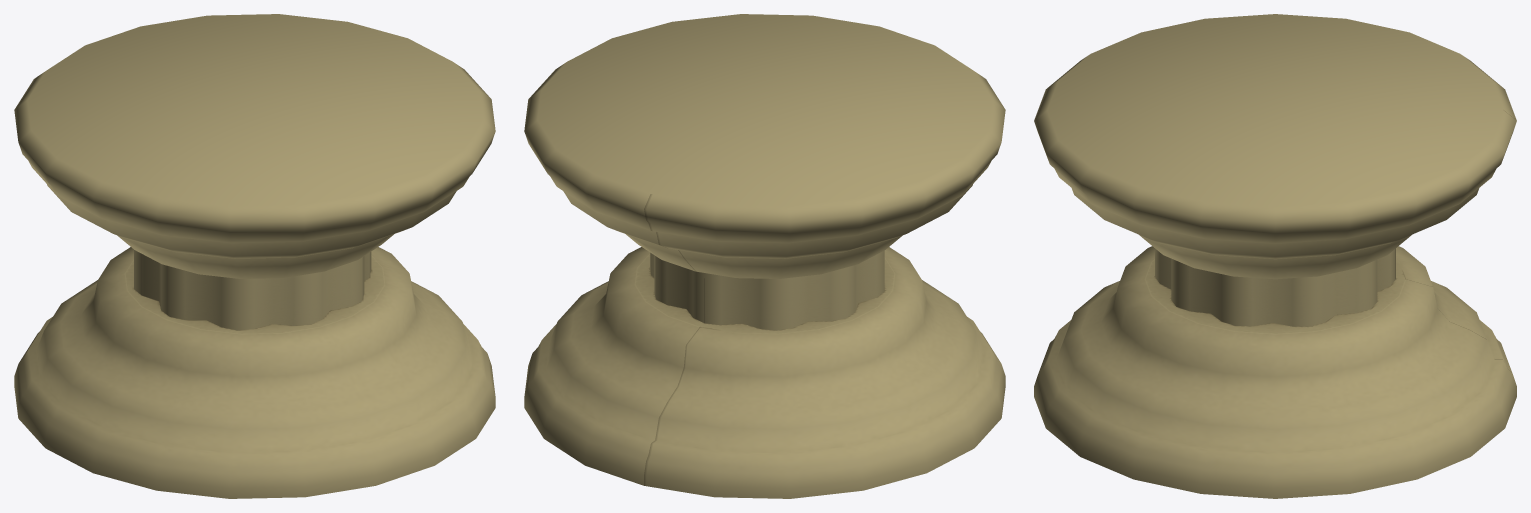
The model's file is Display Piller.fbx.
3 renders of one model, left to right at view 1: azimuth 30°, elevation 25°; view 2: azimuth 150°, elevation 25°; view 3: azimuth 270°, elevation 25°, orthographic.
Visible parts, largest first — view 1: Display piller; view 2: Display piller; view 3: Display piller.
Boxes of the visible parts, box(x1,y1,x2,y2) form: Display piller: box(14, 14, 495, 498); Display piller: box(524, 14, 1005, 498); Display piller: box(1034, 14, 1516, 498).
Bounding box in the file's own units: 1.72 × 1.13 × 1.72.
1 material, 1 textured.
